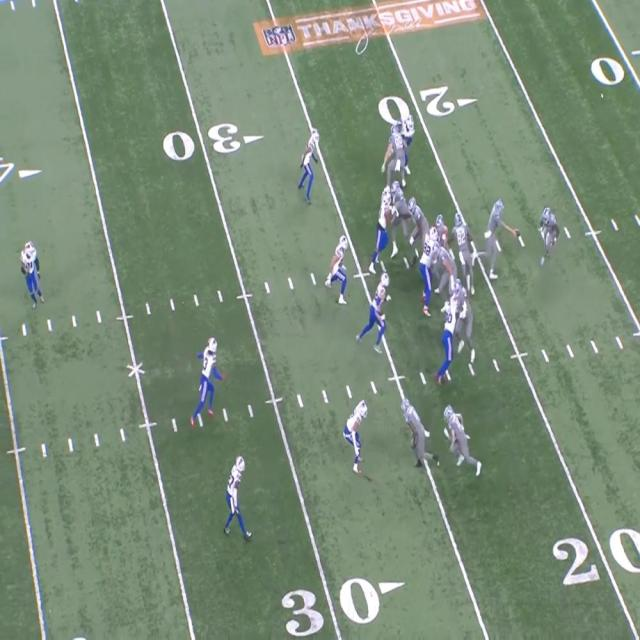db: (200, 334, 222, 421), (348, 397, 370, 470), (228, 456, 248, 536), (24, 242, 42, 306), (301, 130, 317, 194)
lb: (366, 271, 388, 355), (334, 236, 346, 304)
qb: (487, 199, 506, 282)
skill: (443, 401, 474, 472), (456, 211, 476, 299), (404, 399, 429, 468), (388, 125, 408, 202), (541, 206, 557, 270)
